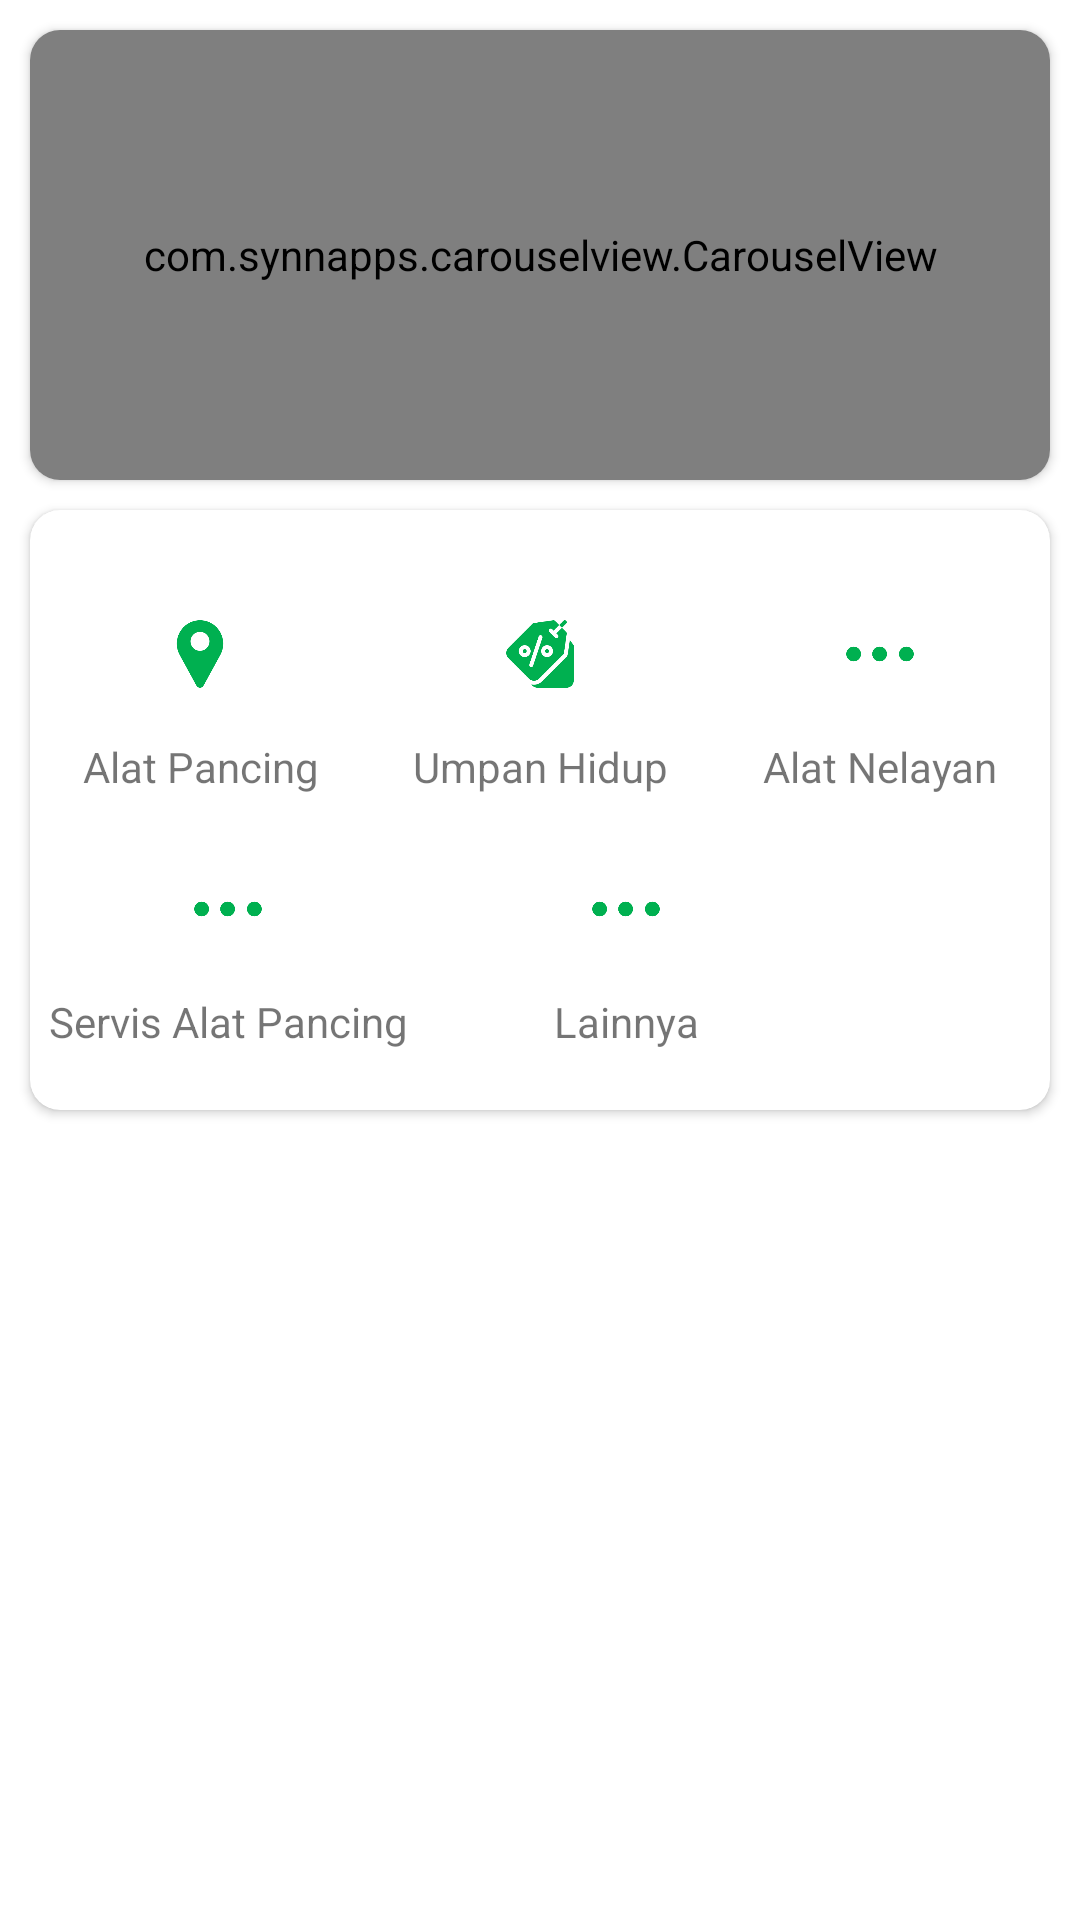

Icons on this 1080x1920 Android screen, each with its box as BBox(x1, y1, x2, y2):
maps: BBox(177, 620, 223, 688)
opsion: BBox(846, 646, 914, 662), BBox(194, 901, 262, 917), BBox(592, 901, 660, 917)
